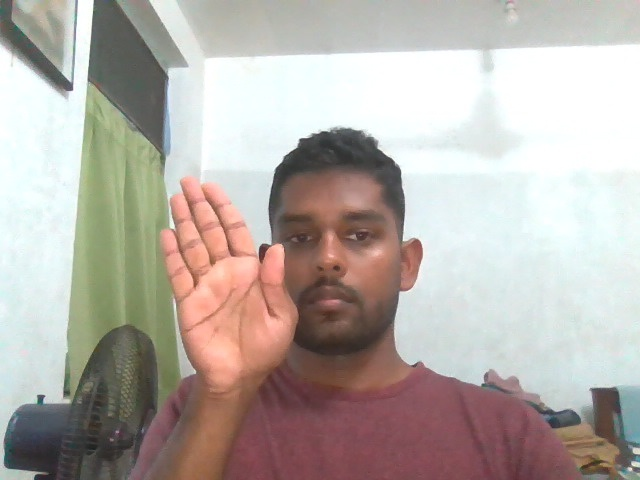bye: (152, 170, 301, 392)
